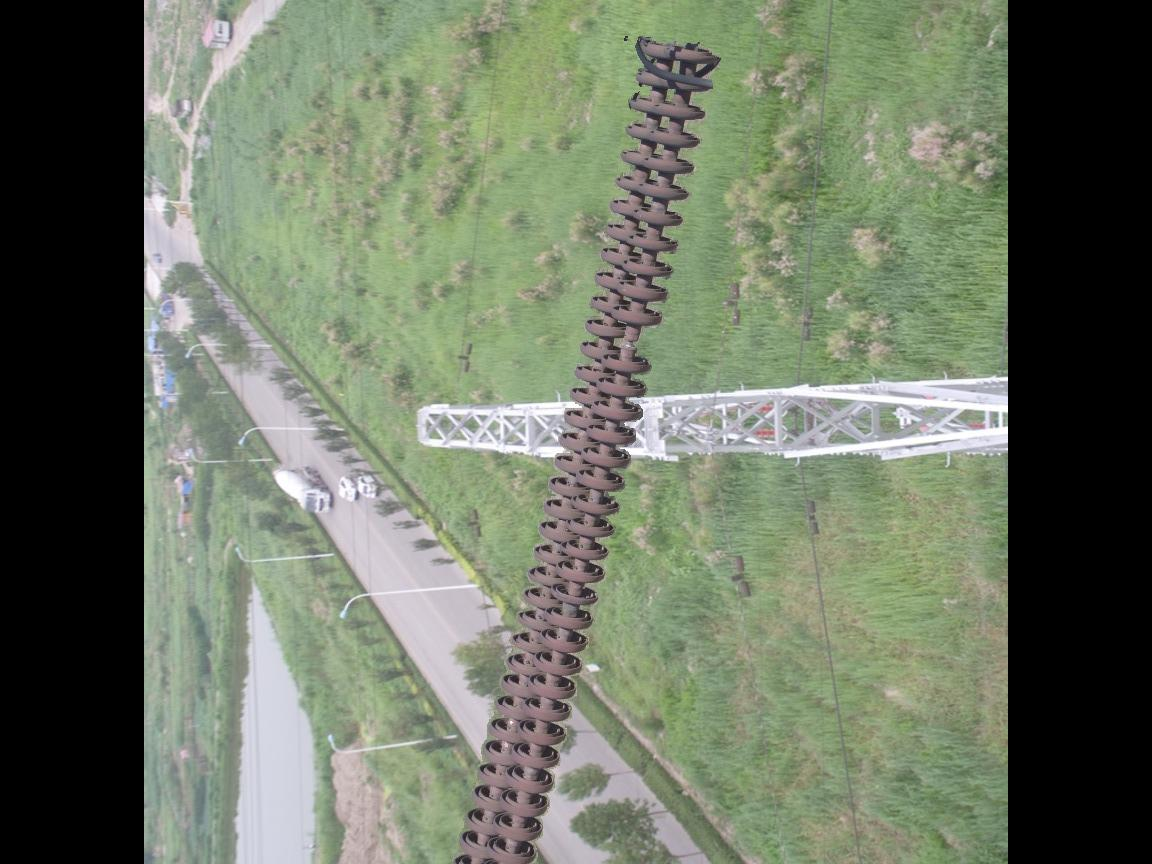insulator: (447, 34, 719, 864)
insulator_stringdrop: (596, 303, 665, 378)
